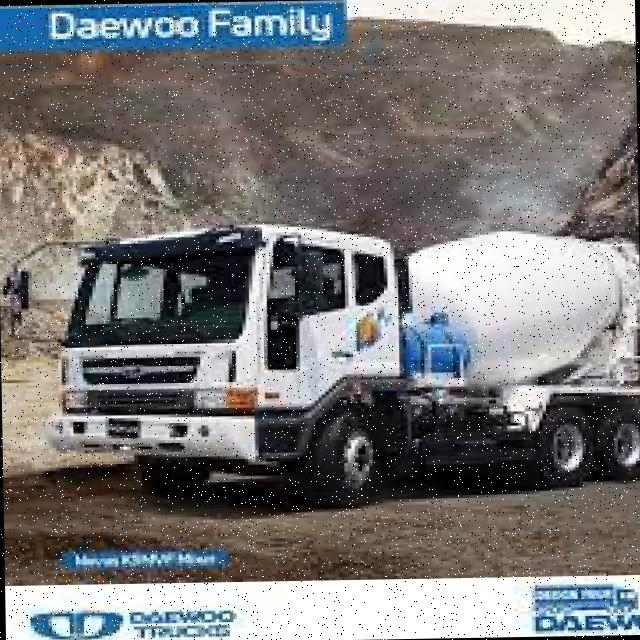Mixer Truck: (1, 211, 640, 510)
